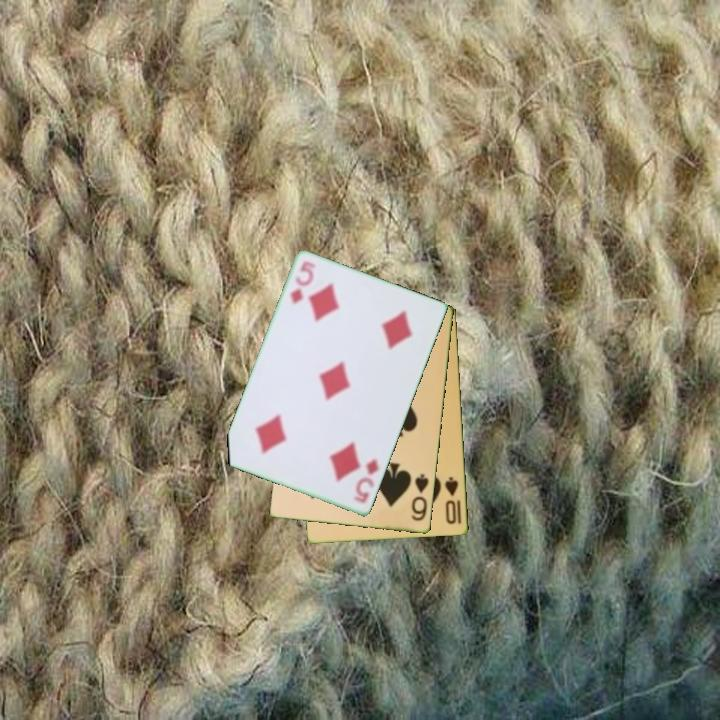10s: (442, 473, 464, 528)
5d: (350, 455, 382, 506), (287, 258, 319, 308)
6s: (408, 471, 432, 524)
